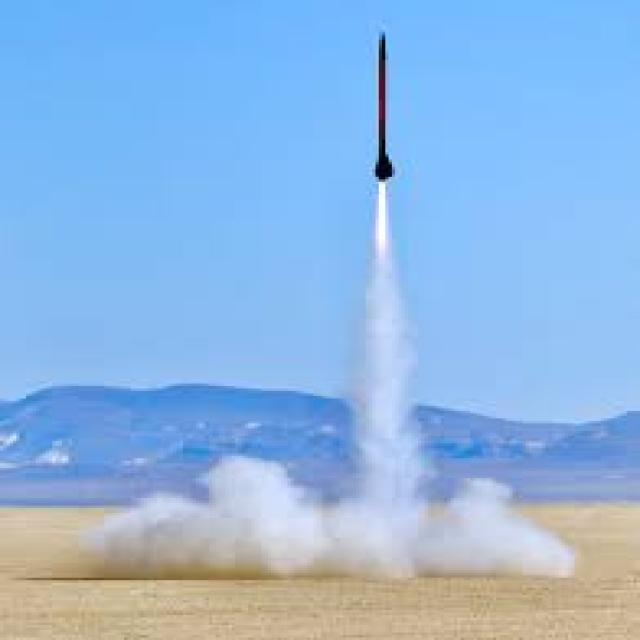Rocket: (369, 27, 400, 185)
